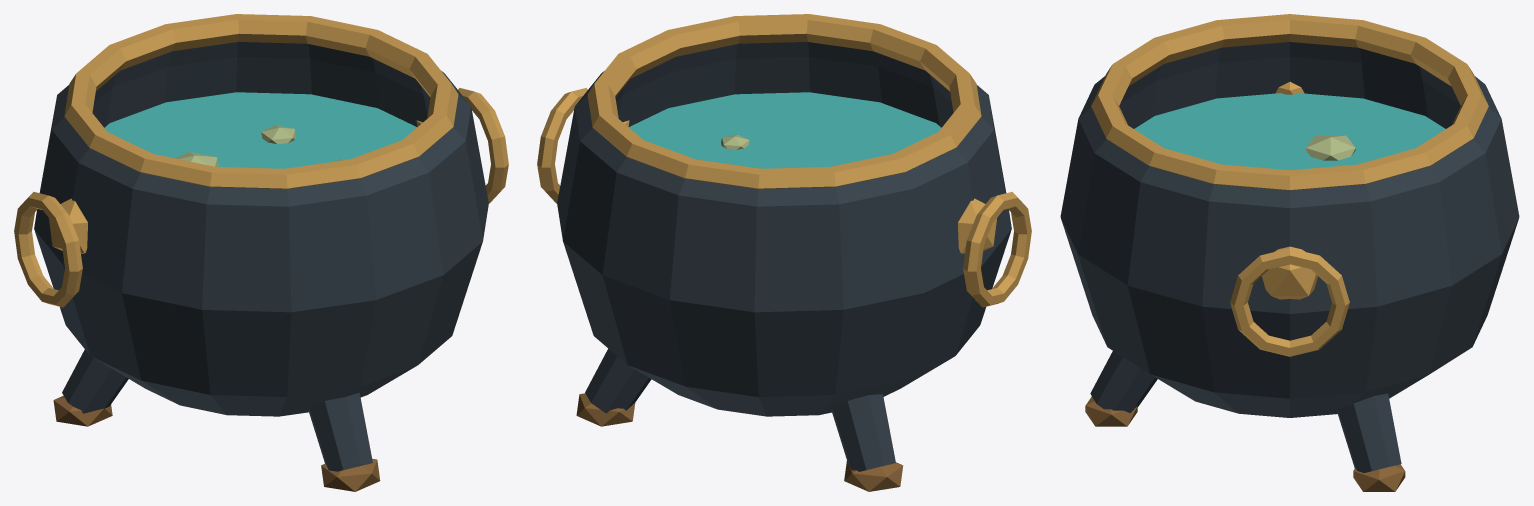
The model's file is mini_cauldron.glb.
3 views of the same model, side by side, from view 1: azimuth 30°, elevation 25°; view 2: azimuth 150°, elevation 25°; view 3: azimuth 270°, elevation 25° (orthographic).
Parts seen in each view (by area): view 1: SM_Magic_Cauldron; view 2: SM_Magic_Cauldron; view 3: SM_Magic_Cauldron.
Boxes of the visible parts, x1,y1,x2,y2 form: SM_Magic_Cauldron: (14, 14, 508, 491); SM_Magic_Cauldron: (537, 14, 1031, 491); SM_Magic_Cauldron: (1060, 14, 1519, 491).
Bounding box in the file's own units: 0.3981 × 0.2855 × 0.36.
3 materials, 3 textured.
